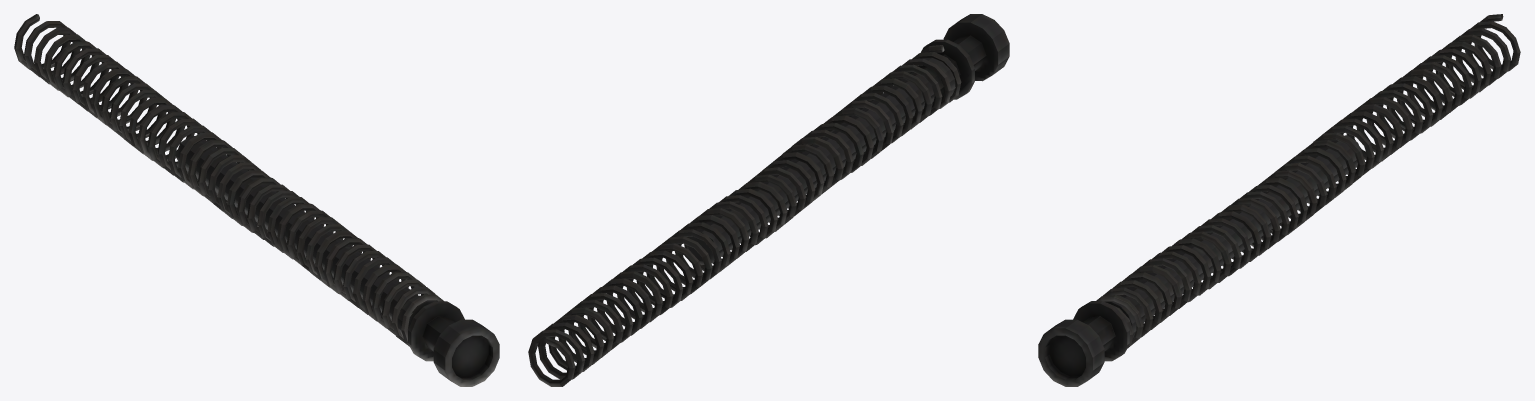
The picture shows the model from 3 angles, left to right: view 1: azimuth 30°, elevation 25°; view 2: azimuth 150°, elevation 25°; view 3: azimuth 330°, elevation 25°; orthographic projection.
Parts seen in each view (by area): view 1: TW_643ea5b23db6f9f57107d9fd_PZ_Import; view 2: TW_643ea5b23db6f9f57107d9fd_PZ_Import; view 3: TW_643ea5b23db6f9f57107d9fd_PZ_Import.
Boxes of the visible parts, <box> form: TW_643ea5b23db6f9f57107d9fd_PZ_Import: <box>14,14,499,386</box>; TW_643ea5b23db6f9f57107d9fd_PZ_Import: <box>528,14,1009,386</box>; TW_643ea5b23db6f9f57107d9fd_PZ_Import: <box>1038,14,1520,386</box>.
Size of the model in its own units: 0.00477 by 0.0647 by 0.0048.
1 material, 1 textured.
